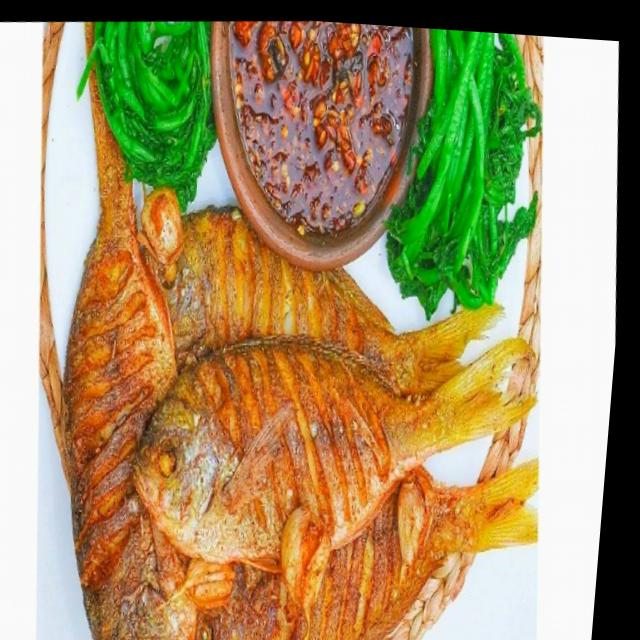ikan goreng: (37, 13, 248, 640), (126, 301, 558, 585), (134, 179, 523, 409), (183, 429, 559, 640)
